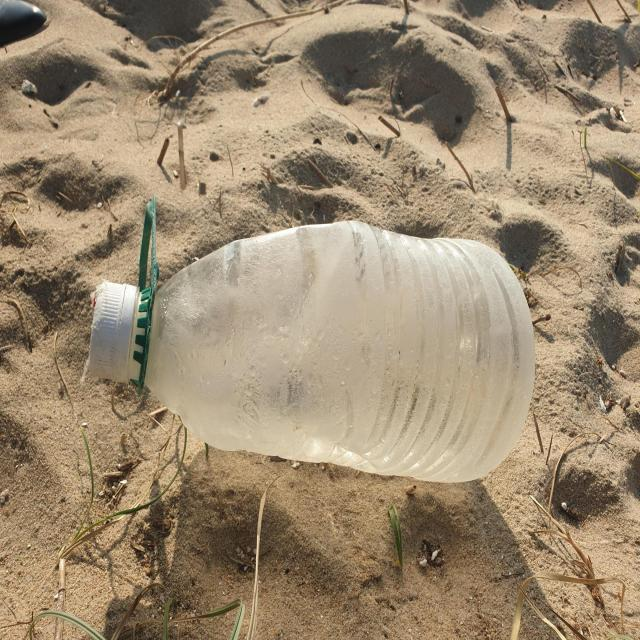plastic: (89, 199, 536, 482)
